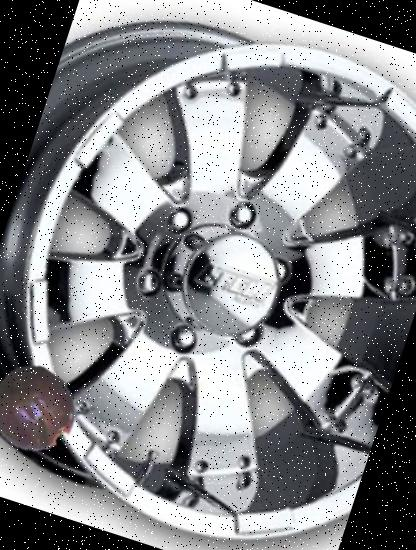Passion: (0, 353, 89, 466)
